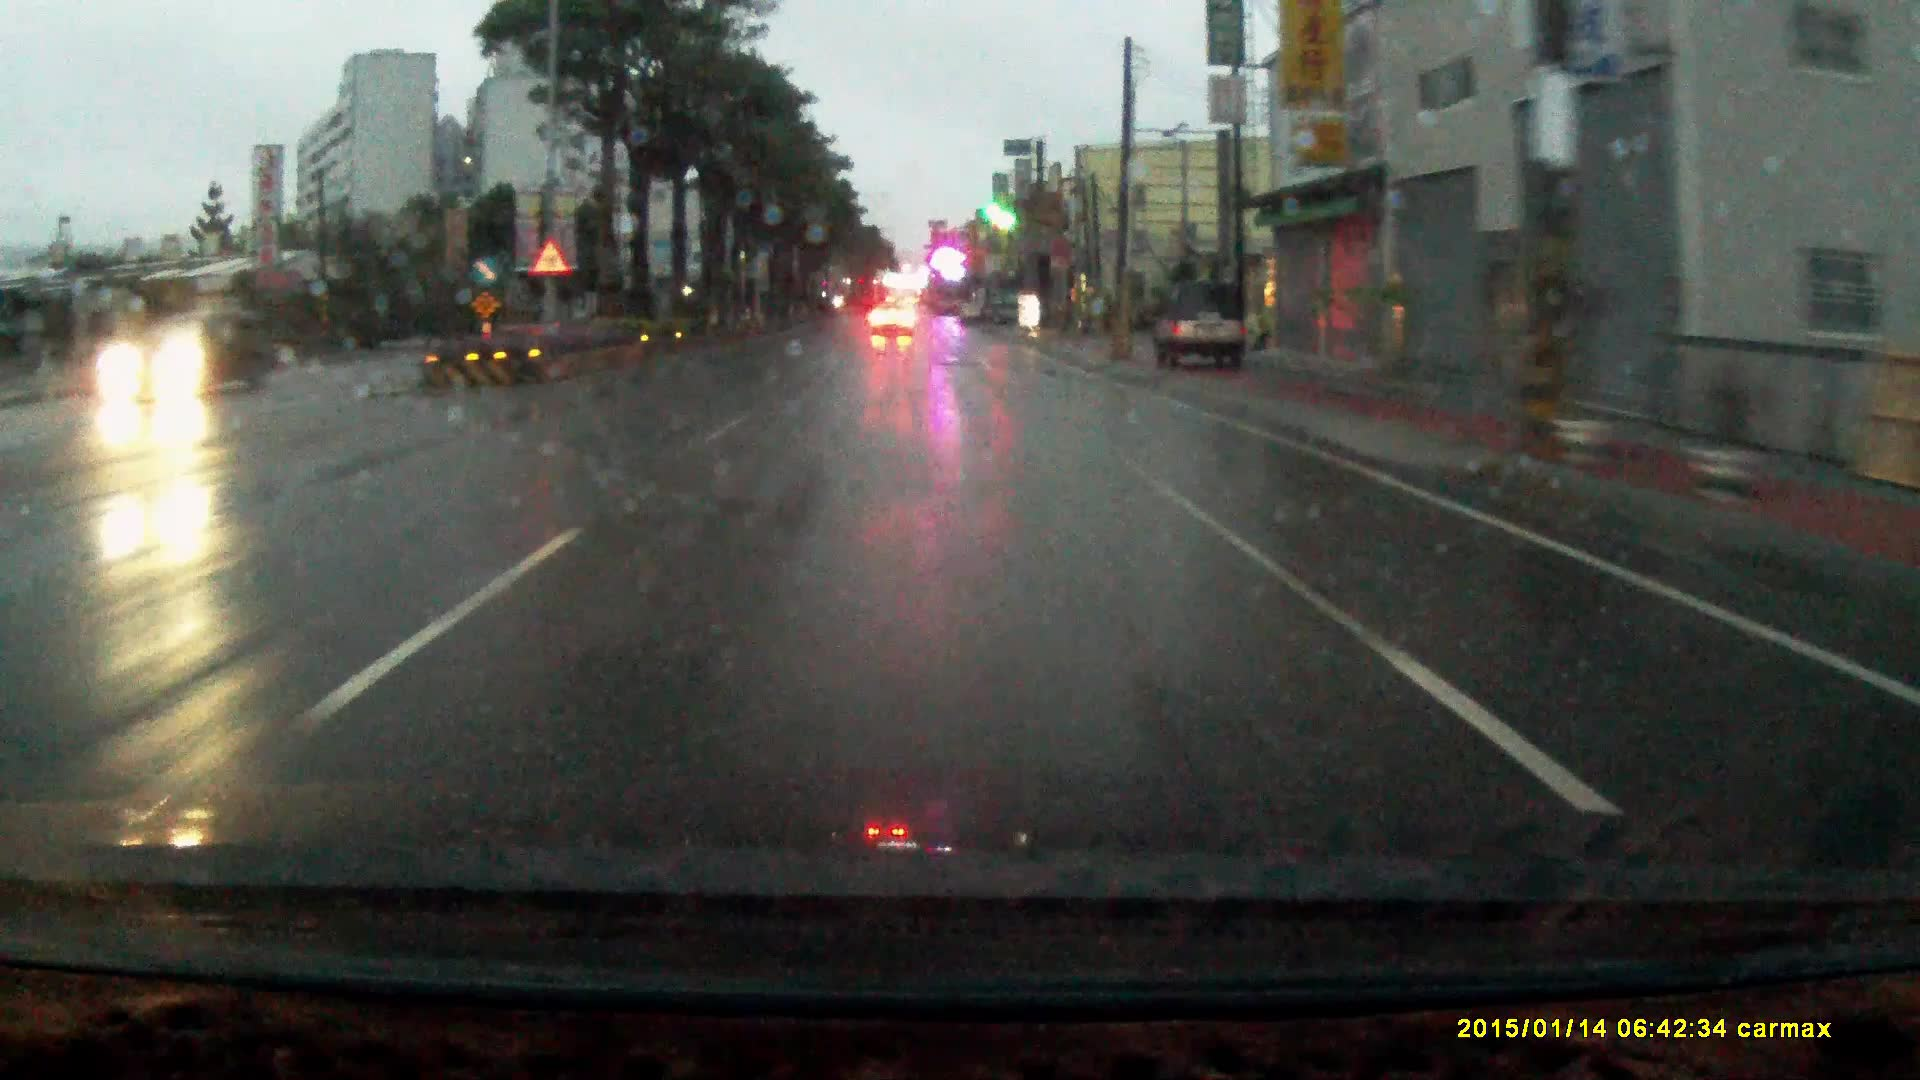vehicle: (95, 301, 286, 401), (1151, 266, 1253, 363), (872, 302, 915, 342)
